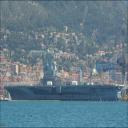Portanaves: (3, 44, 126, 103)
